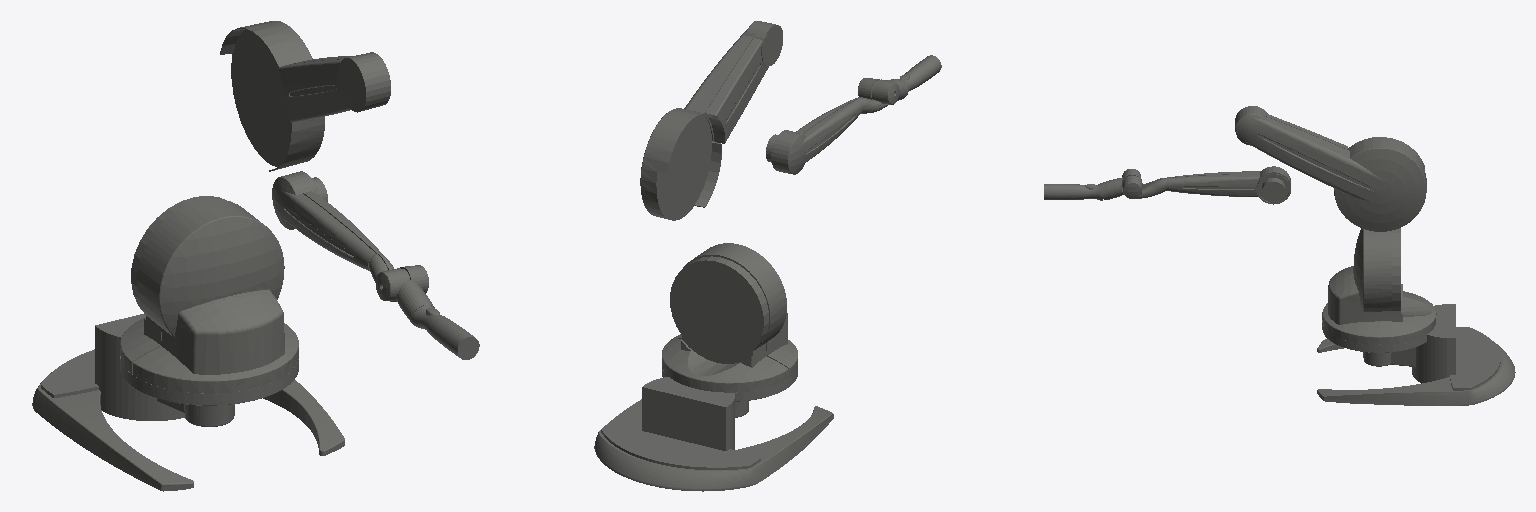
The robot description file, URDF, robot "geomagic_touch":
<?xml version="1.0" encoding="utf-8"?>
<robot name="geomagic_touch" xmlns:xacro="http://www.ros.org/wiki/xacro">
	
	<!-- Materials -->
	<material name="metal_seamed">
		<color rgba="0.4627450980392157 0.4666666666666667 0.4509803921568628 1.0" />
	</material>
	<material name="blue">
		<color rgba="0.0 0.0 0.8 1.0" />
	</material>
	<material name="white">
		<color rgba="1.0 1.0 1.0 1.0" />
	</material>
	
	<!-- Links -->
  <link name="base" >
    <visual>
			<origin xyz="0 0 0" />
      <geometry>
				<mesh filename="package://geomagic_description/meshes/touch_x/base.stl" />
      </geometry>
      <material name="metal_seamed"/>
    </visual>
  </link>
  <link name="torso" >
    <visual>
			<origin xyz="0 0 0.0" rpy="0 0 0"/>
      <geometry>
				<mesh filename="package://geomagic_description/meshes/touch_x/torso.stl" />
      </geometry>
      <material name="metal_seamed"/>
    </visual>
  </link>
  <link name="upper_arm" >
		<visual>
			<origin xyz="0 0 0" rpy="0 0 0"/>
      <geometry>
				<mesh filename="package://geomagic_description/meshes/touch_x/upper_arm.stl" />
      </geometry>
      <material name="metal_seamed" />
    </visual>
  </link>
  <link name="lower_arm" >
		<visual>
			<origin xyz="0 0 0" rpy="0 0 0"/>
      <geometry>
				<mesh filename="package://geomagic_description/meshes/touch_x/lower_arm.stl" />
      </geometry>
      <material name="metal_seamed" />
    </visual>
  </link>
  <link name="upper_wrist" >
		<visual>
			<origin xyz="0 0 0" rpy="0 0 0"/>
      <geometry>
				<mesh filename="package://geomagic_description/meshes/touch_x/upper_wrist.stl" />
      </geometry>
      <material name="metal_seamed" />
    </visual>
  </link>
  <link name="lower_wrist" >
		<visual>
			<origin xyz="0 0 0" rpy="0 0 0"/>
      <geometry>
				<mesh filename="package://geomagic_description/meshes/touch_x/lower_wrist.stl" />
      </geometry>
      <material name="metal_seamed" />
    </visual>
  </link>
  <link name="stylus" >
    <visual>
			<origin xyz="0 0 0" rpy="0 0 0"/>
      <geometry>
				<mesh filename="package://geomagic_description/meshes/touch_x/stylus.stl" />
      </geometry>
      <material name="metal_seamed" />
    </visual>
  </link>
  
	<!-- joints -->
  <joint name="j1" type="revolute" >
    <parent link="base" />
    <child link="torso" />
    <origin xyz="0 0 0.05499100" rpy="0 0 0"/>
    <axis xyz="0 0 -1" />
    <limit lower="-0.98" upper="0.98" velocity="100" effort="5" />
  </joint>
  <joint name="j2" type="revolute" >
    <parent link="torso" />
    <child link="upper_arm" />
    <origin xyz="0.02053590 0 0.05108434" rpy="0 0 0"/>
    <axis xyz="-1 0 0" />
    <limit lower="0" upper="1.75" velocity="100" effort="5" />
  </joint>
  <joint name="j3" type="revolute" >
    <parent link="upper_arm" />
    <child link="lower_arm" />
    <origin xyz="-0.01079507 -0.09921078 0.08910355" rpy="0 0 0"/>
    <axis xyz="-1 0 0" />
		<!-- upper="1.25" -->
    <limit lower="-0.81" upper="1.25" velocity="100" effort="5" /> 
  </joint>
  <joint name="j4" type="revolute" >
    <parent link="lower_arm" />
    <child link="upper_wrist" />
    <origin xyz="-0.00939800 -0.09969500 0" rpy="0 0 0"/>
    <axis xyz="0 1 0" />
    <limit lower="3.92" upper="8.83" velocity="100" effort="5" />
  </joint>
  <joint name="j5" type="revolute" >
    <parent link="upper_wrist" />
    <child link="lower_wrist" />
    <origin xyz="-0.00184288 -0.03289300 0" rpy="0 0 0"/>
    <axis xyz="1 0 0" />
    <limit lower="-0.5" upper="1.75" velocity="100" effort="5" />
  </joint>
  <joint name="j6" type="revolute" >
    <parent link="lower_wrist" />
    <child link="stylus" />
    <origin xyz="0.00001888 -0.02817081 -0.00970118" rpy="0 0 0"/>
    <axis xyz="0 1 0" />
    <limit lower="-2.58" upper="2.58" velocity="100" effort="5" />
  </joint>
</robot>

--- Render facts (derived) ---
The picture shows the robot from 3 angles, left to right: view 1: azimuth 30°, elevation 25°; view 2: azimuth 150°, elevation 25°; view 3: azimuth 270°, elevation 25°; orthographic projection.
Model geomagic_touch with 7 links and 6 joints (6 revolute), rooted at base, posed all joints at 0 but 1 set to mid-range because 0 is outside their limits (j4 = 6.38).
Visible links, largest first — view 1: torso, base, upper_arm, lower_arm, stylus, lower_wrist, upper_wrist; view 2: base, torso, upper_arm, lower_arm, stylus, lower_wrist, upper_wrist; view 3: upper_arm, base, torso, lower_arm, stylus, upper_wrist, lower_wrist.
Boxes of the visible links, box(x1,y1,x2,y2) form: torso: box(120, 196, 298, 393); base: box(32, 314, 344, 491); upper_arm: box(220, 21, 390, 171); lower_arm: box(272, 171, 382, 270); stylus: box(411, 305, 479, 359); lower_wrist: box(376, 268, 434, 323); upper_wrist: box(369, 254, 428, 301); base: box(594, 368, 833, 491); torso: box(662, 243, 797, 392); upper_arm: box(640, 21, 782, 220); lower_arm: box(766, 99, 863, 174); stylus: box(900, 55, 941, 95); lower_wrist: box(874, 79, 907, 104); upper_wrist: box(855, 78, 887, 113); upper_arm: box(1235, 106, 1426, 231); base: box(1317, 304, 1515, 405); torso: box(1322, 228, 1436, 344); lower_arm: box(1166, 166, 1290, 204); stylus: box(1044, 184, 1102, 200); upper_wrist: box(1122, 175, 1165, 198); lower_wrist: box(1100, 169, 1141, 199).
Size in the robot's own frame: 0.148 by 0.4422 by 0.2918 metres.
7 mesh visuals loaded from 7 distinct referenced files (7 binary STL).